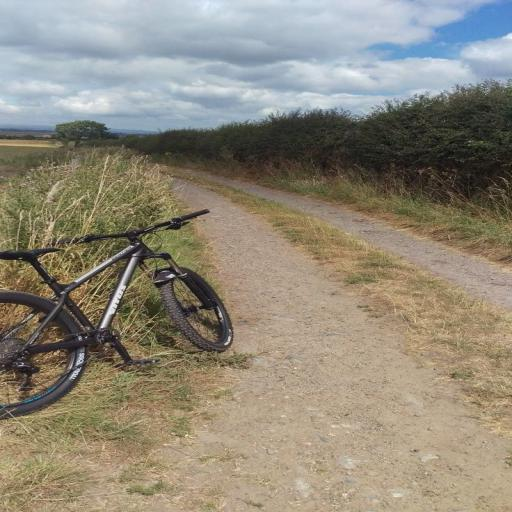bag: (0, 209, 232, 418)
